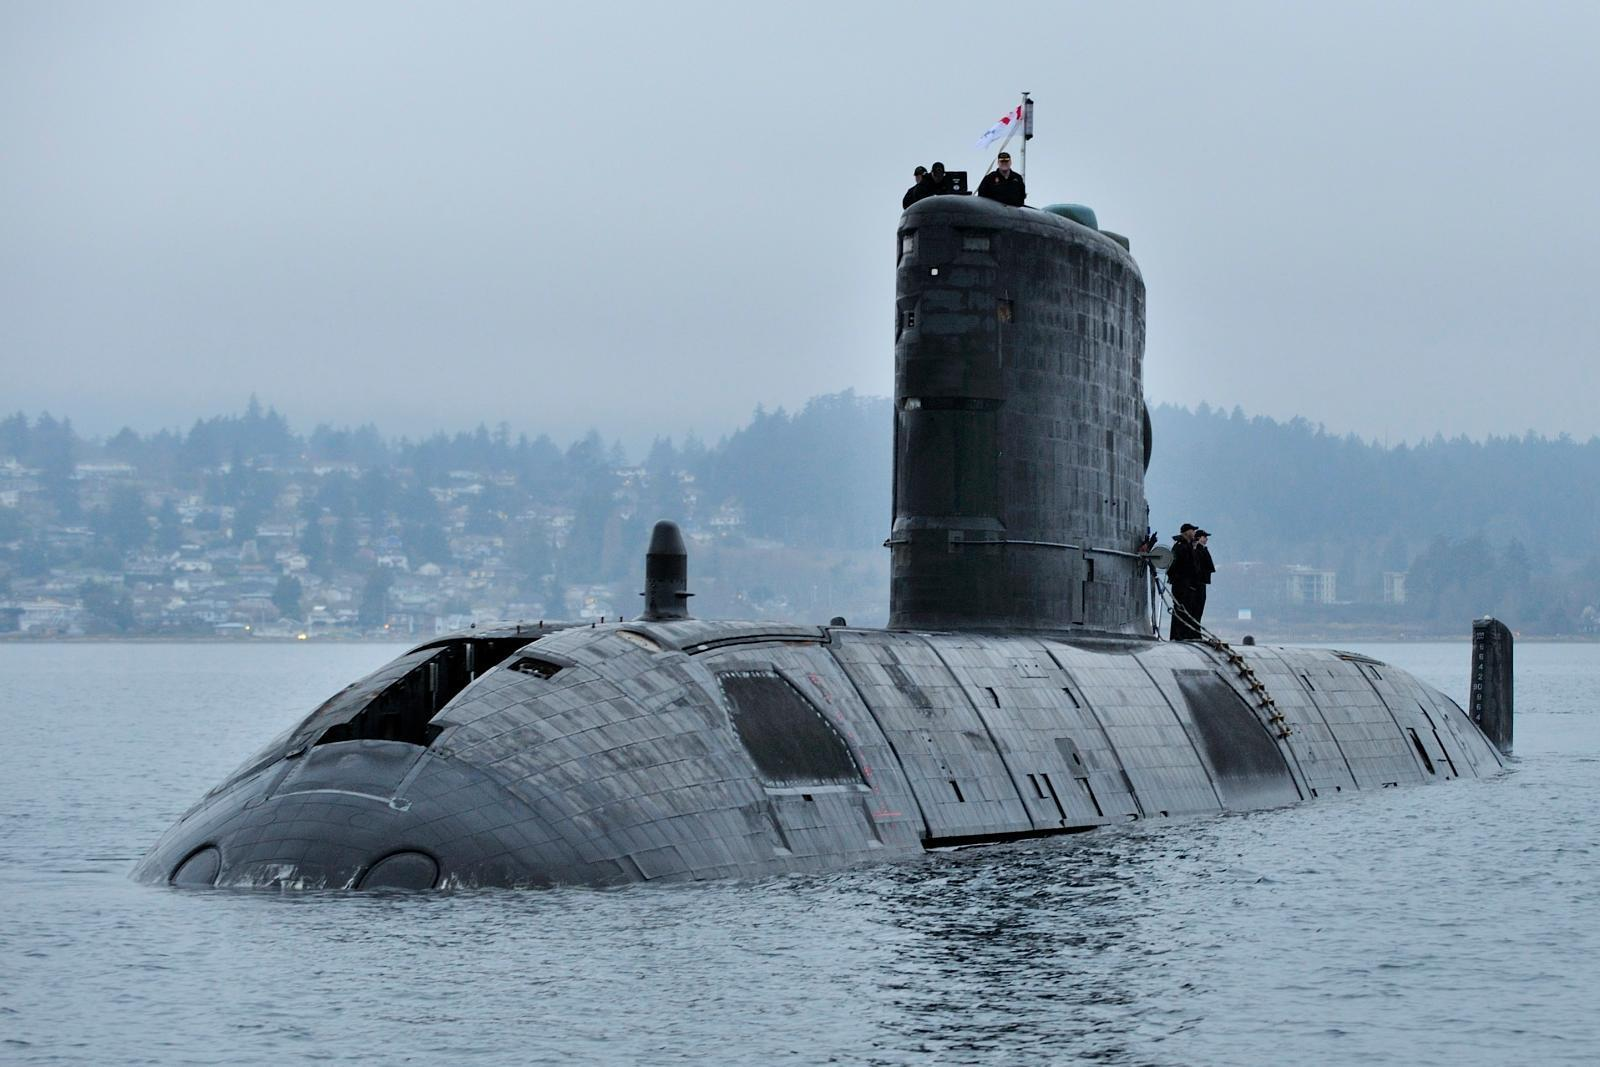Submarine: (75, 45, 1600, 1021)
